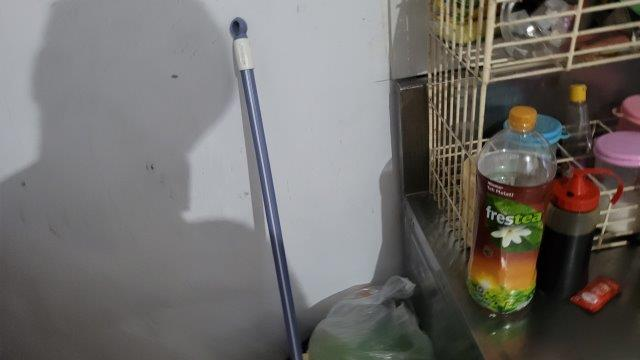botolplastik: (464, 106, 557, 317)
